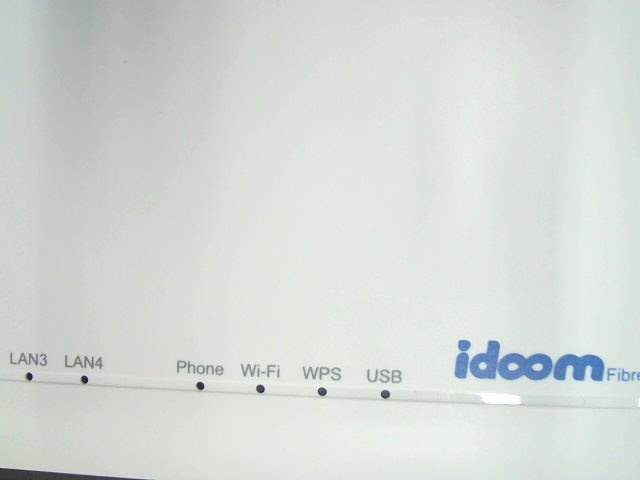BB_idoom: (449, 337, 639, 388)
